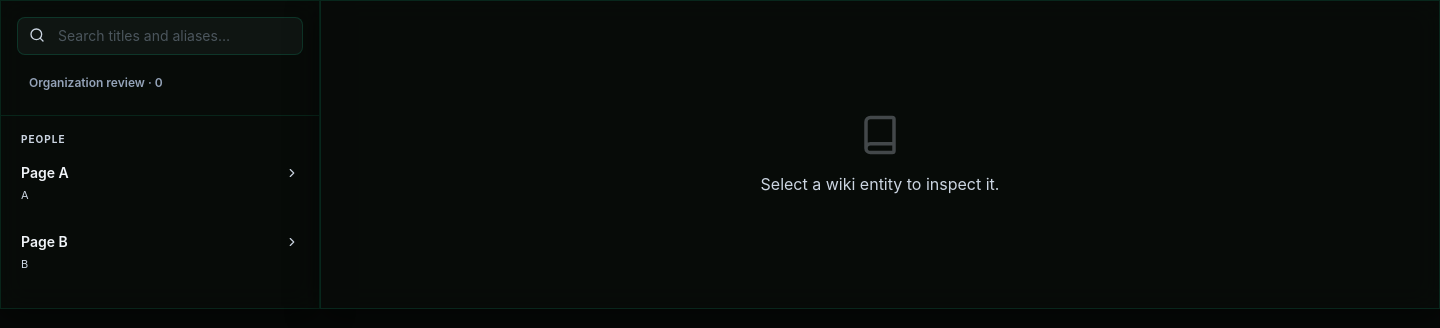
hides old page content during navigation and ignores a delayed response
Click the button "Page A A" at (45, 172), box [9, 151, 311, 216]
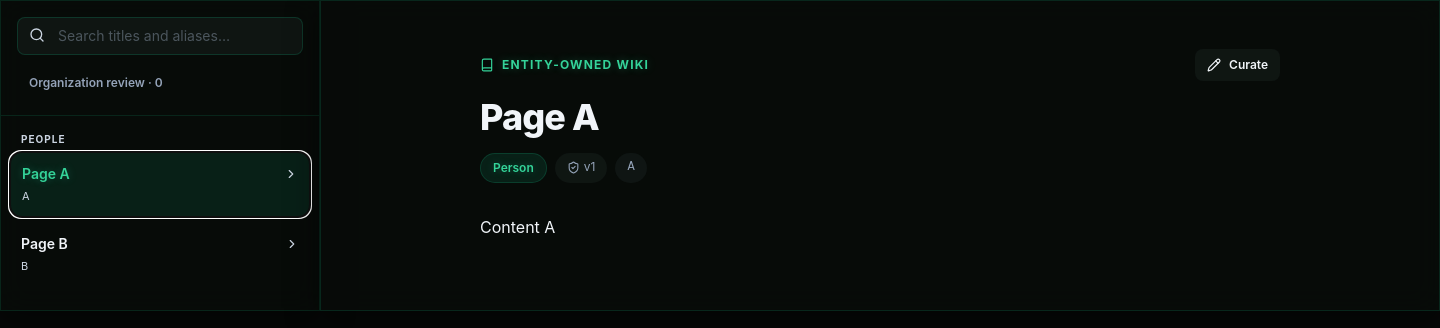
Expected: the text "Content A" is shown, [480, 217, 555, 237]
Click the button "Page B B" at (44, 243), box [9, 222, 311, 286]
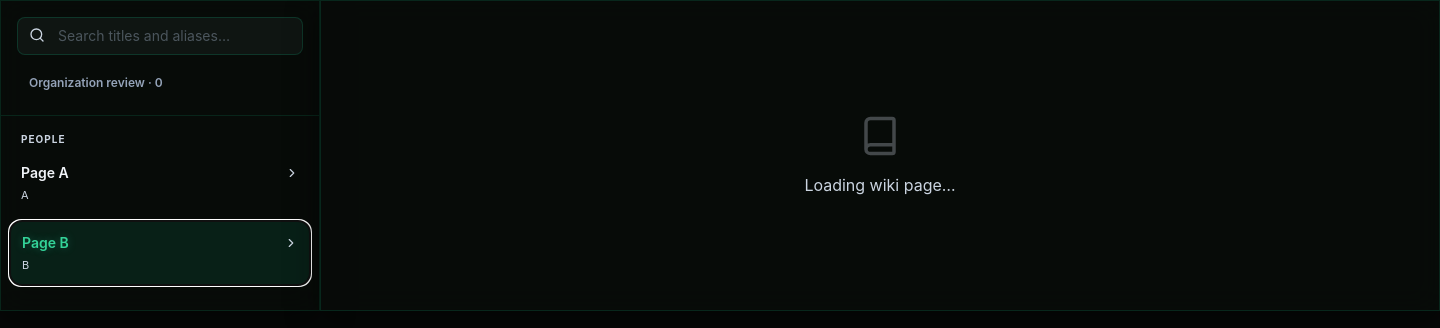
Expected: the text "Content A" is gone
Expected: the text "Loading wiki page…" is shown, [804, 172, 956, 196]
Click the button "Page A A" at (45, 172), box [9, 151, 311, 216]
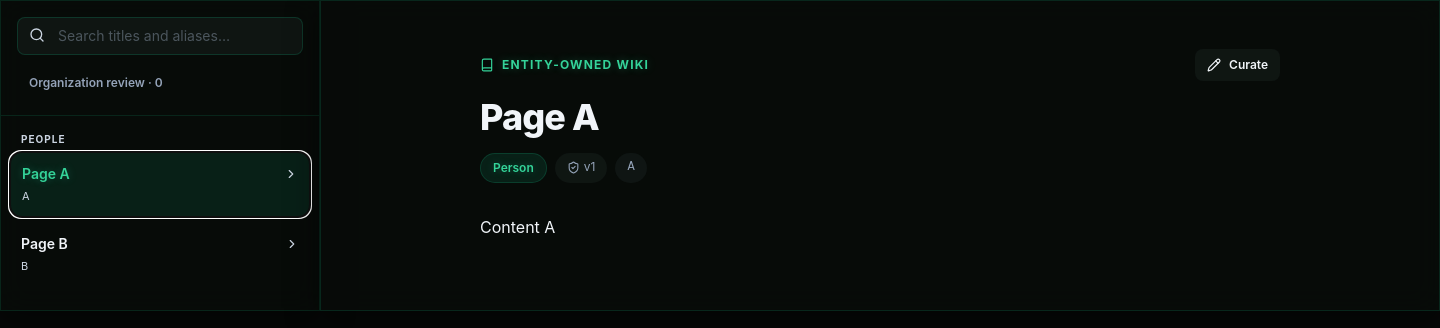
Expected: the text "Content A" is shown, [480, 217, 555, 237]
Expected: the heading "Page A" is shown, [480, 95, 599, 139]
